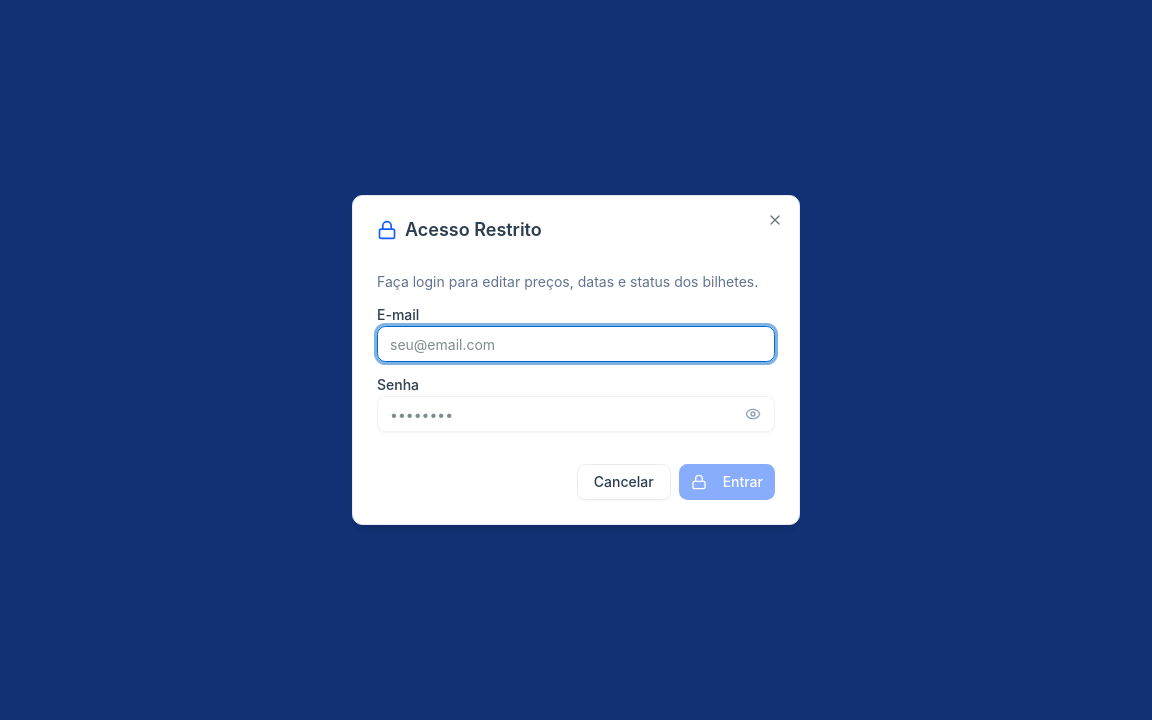
LoginModal verified session › does not report success if credentials pass but the browser does not maintain the session
Type "owner@example.com" into the field labelled "E-mail" at [576, 344], box [377,326,775,362]
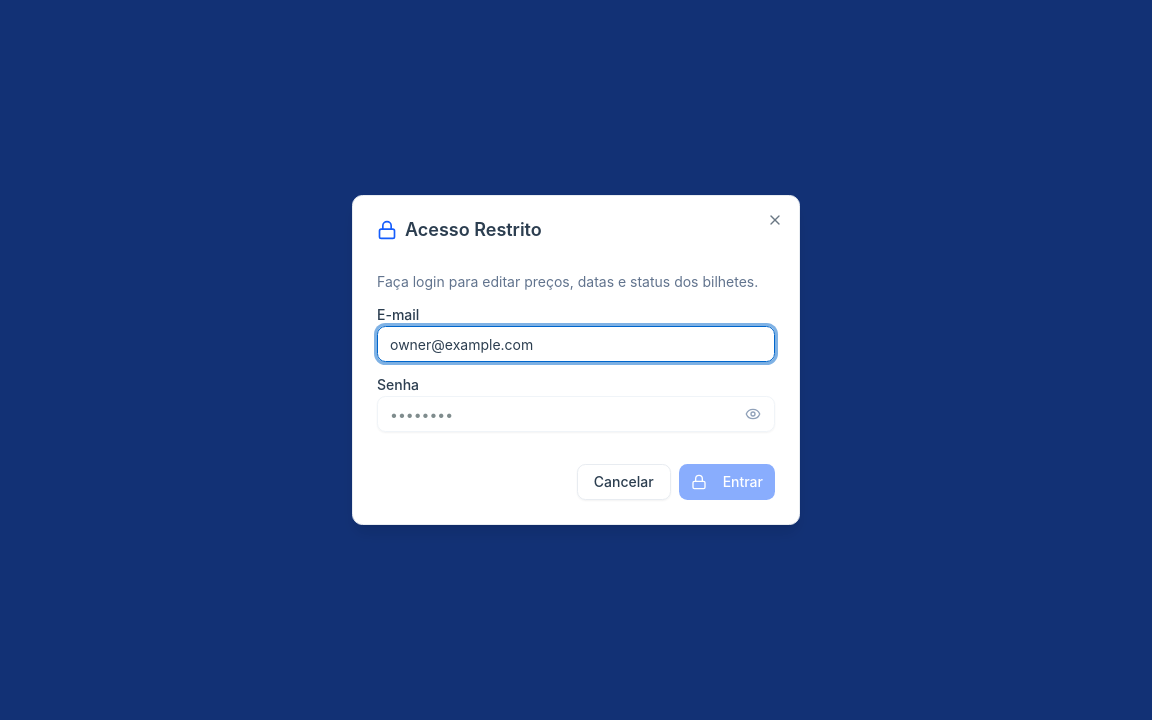
Type "test-password-only" into the password field labelled "Senha" at [576, 414], box [377,396,775,432]
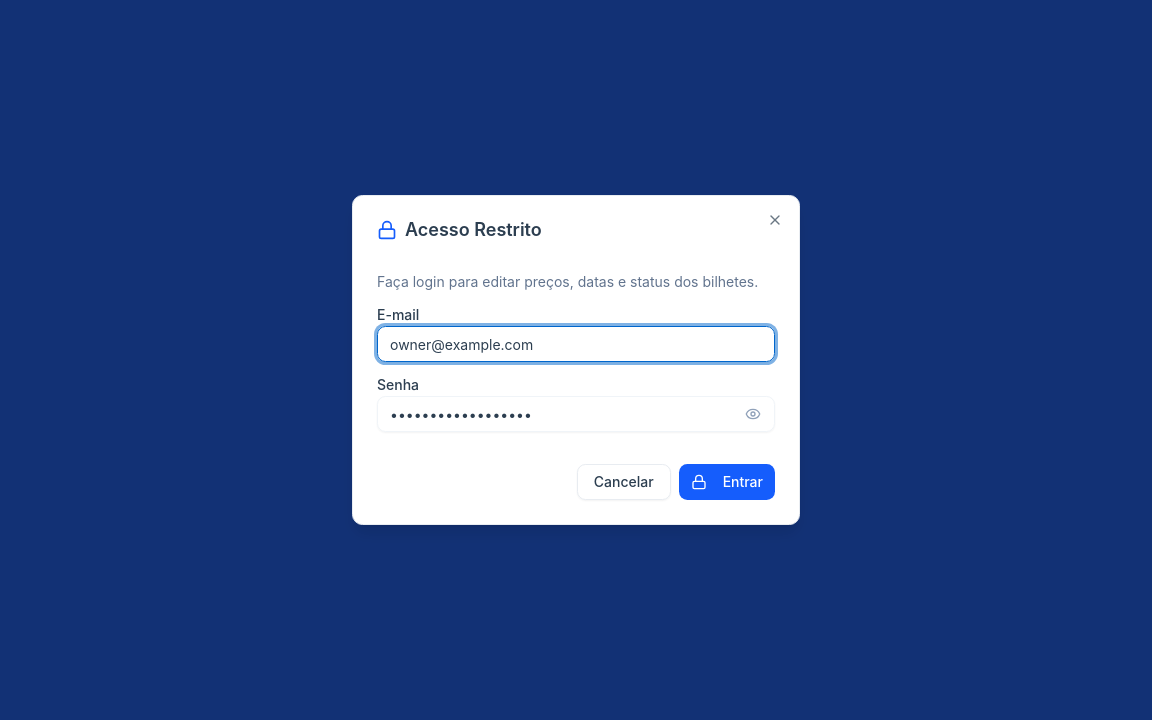
Click the button "Entrar" at [727, 482], box [679,464,775,500]
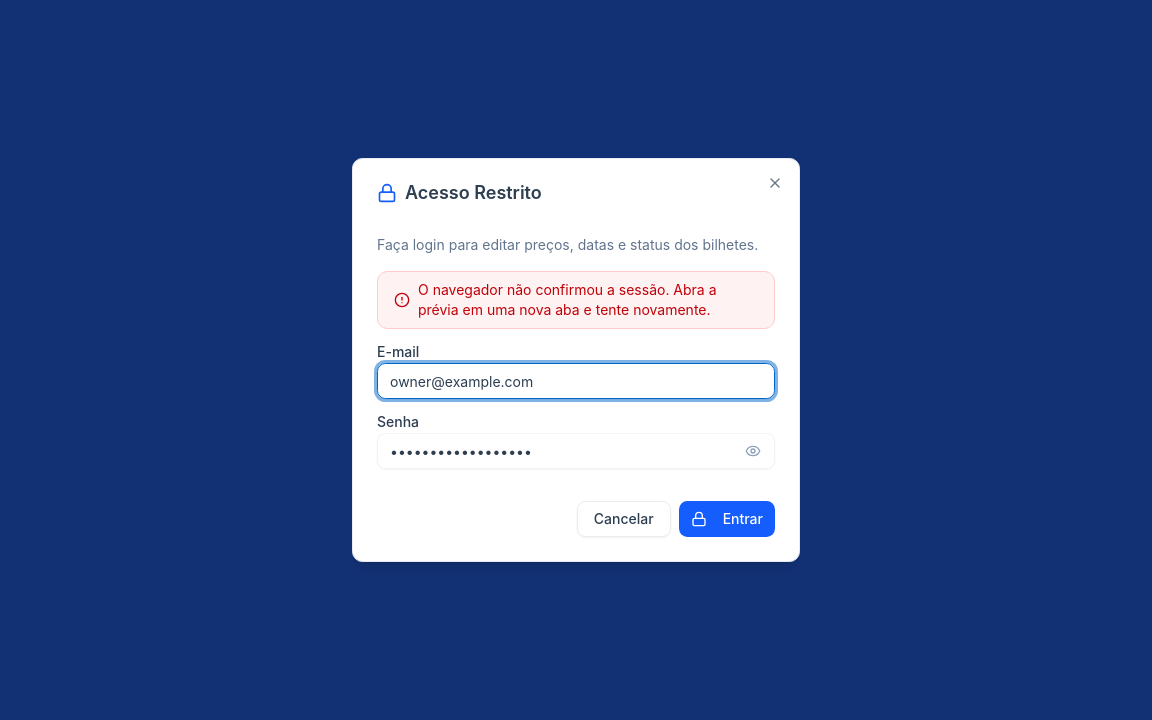
Result: the button "Entrar" is enabled at [679,501,775,537]
Result: the message shows "O navegador não confirmou a sessão" at [418,281,716,318]
